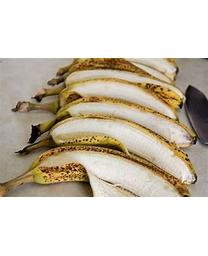banana: (11, 58, 204, 193)
